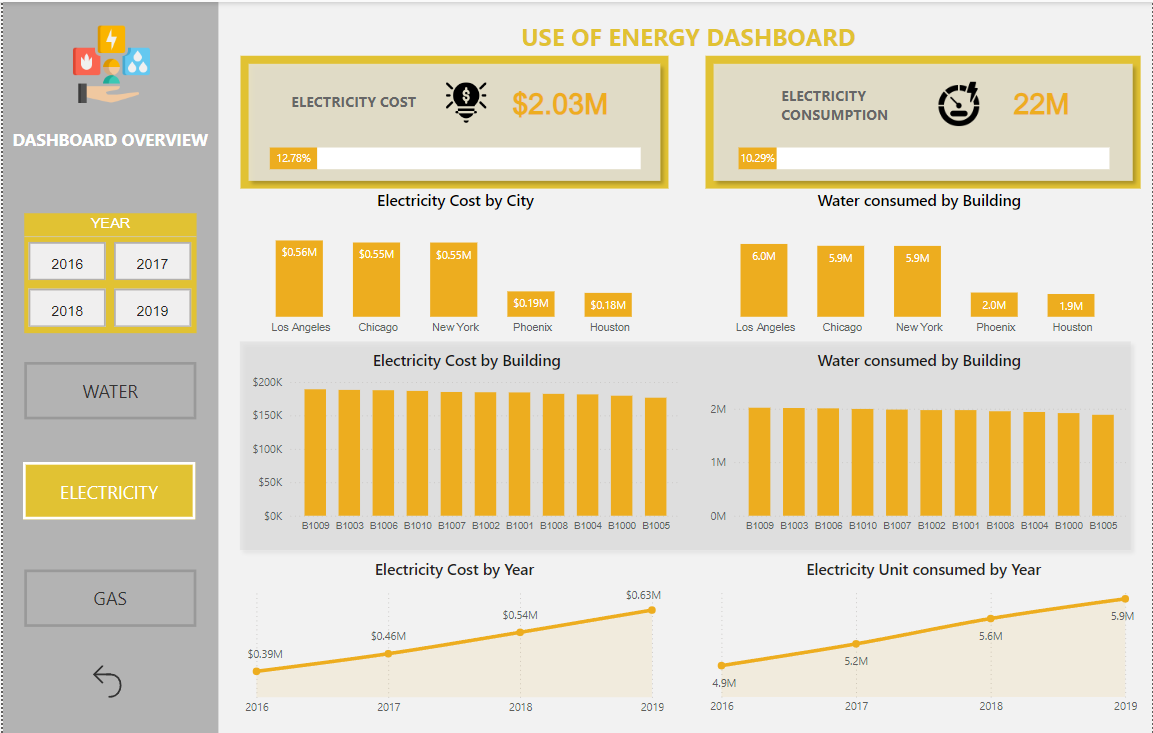

The page's visual inventory and layout, read from the dashboard file:
{"tool":"powerbi","page":{"name":"ELECTRICITY","canvas":[1280,820],"ordinal":2},"visuals":[{"type":"shape","title":"Total Cost","box":[782.9,60.4,484.9,148.3],"z":0},{"type":"shape","title":"Total Cost","box":[265.1,60.4,476.6,148.3],"z":1000},{"type":"shape","box":[254.8,368.9,1010.7,250.6],"z":2000},{"type":"shape","box":[0,0,240.4,820],"z":3000},{"type":"image","box":[66.3,15.7,108.5,108.5],"z":4000},{"type":"areaChart","fields":{"Category":["Energy Consumptions.Year"],"Y":["All Measures.Electricity Cost"]},"box":[265.1,619.5,476.6,184.1],"z":5000},{"type":"areaChart","fields":{"Category":["Energy Consumptions.Year"],"Y":["All Measures.Electricity Unit consumed"]},"box":[782.4,619.5,485.9,183.8],"z":6000},{"type":"columnChart","fields":{"Category":["Energy Consumptions.Building"],"Y":["All Measures.Electricity Cost"]},"box":[272.9,387,487.3,214.4],"z":7000},{"type":"clusteredColumnChart","title":"Water consumed by Building","fields":{"Category":["Energy Consumptions.Building"],"Y":["All Measures.Electricity Unit consumed"]},"box":[782.4,387,476.1,214.4],"z":8000},{"type":"columnChart","fields":{"Category":["Building Master.City"],"Y":["All Measures.Electricity Cost"]},"box":[264.5,208.8,478.9,172],"z":9000},{"type":"clusteredColumnChart","title":"Water consumed by Building","fields":{"Category":["Building Master.City"],"Y":["All Measures.Electricity Unit consumed"]},"box":[782.4,208.8,476.1,172],"z":10000},{"type":"card","fields":{"Values":["All Measures.Electricity Cost"]},"box":[501.2,75.2,239.5,76.6],"z":11000},{"type":"card","fields":{"Values":["All Measures.Electricity Unit consumed"]},"box":[1037.2,75.2,239.5,76.6],"z":12000},{"type":"hundredPercentStackedBarChart","fields":{"Y":["All Measures.Electricity Cost","All Measures.Electricity Cost left"]},"box":[292.4,116.9,423.2,108.6],"z":13000},{"type":"hundredPercentStackedBarChart","fields":{"Y":["All Measures.Electricity Unit consumed","All Measures.Electricity Unit consumed left"]},"box":[814.4,116.9,423.2,108.6],"z":14000},{"type":"textbox","box":[316,94.7,185.2,45.9],"z":15000},{"type":"textbox","box":[861.8,87.7,211.6,57.1],"z":16000},{"type":"textbox","box":[572.4,15.3,451.2,62.7],"z":17000},{"type":"textbox","box":[5.6,135,235.3,69.6],"z":18000},{"type":"image","box":[488.7,84.9,54.3,54.3],"z":19000},{"type":"image","box":[1024.7,80.7,80.7,65.4],"z":20000},{"type":"advancedSlicerVisual","title":"YEAR","fields":{"Values":["Energy Consumptions.Year"]},"box":[23.7,235.3,192.1,133.7],"z":21000},{"type":"actionButton","box":[23.2,401.1,191.8,63.9],"z":22000},{"type":"actionButton","box":[22.8,512,192,64],"z":23000},{"type":"actionButton","box":[23.2,632.7,191.8,63.9],"z":24000},{"type":"actionButton","box":[91.9,732.3,64,48.7],"z":25000}]}

Visuals, with their boxes in screenshot pixels (x1, y1, x2, y2), scaled from the page's 1280x820 canvas onto the 1153x733 screenshot:
"Total Cost" shape: crop(705, 54, 1142, 187)
"Total Cost" shape: crop(239, 54, 668, 187)
shape: crop(230, 330, 1140, 554)
shape: crop(0, 0, 217, 732)
image: crop(60, 14, 157, 111)
areaChart - Energy Consumptions.Year x All Measures.Electricity Cost: crop(239, 554, 668, 718)
areaChart - Energy Consumptions.Year x All Measures.Electricity Unit consumed: crop(705, 554, 1142, 718)
columnChart - Energy Consumptions.Building x All Measures.Electricity Cost: crop(246, 346, 685, 538)
"Water consumed by Building" clusteredColumnChart: crop(705, 346, 1134, 538)
columnChart - Building Master.City x All Measures.Electricity Cost: crop(238, 187, 670, 340)
"Water consumed by Building" clusteredColumnChart: crop(705, 187, 1134, 340)
card - All Measures.Electricity Cost: crop(451, 67, 667, 136)
card - All Measures.Electricity Unit consumed: crop(934, 67, 1150, 136)
hundredPercentStackedBarChart - All Measures.Electricity Cost x All Measures.Electricity Cost left: crop(263, 104, 645, 202)
hundredPercentStackedBarChart - All Measures.Electricity Unit consumed x All Measures.Electricity Unit consumed left: crop(734, 104, 1115, 202)
textbox: crop(285, 85, 451, 126)
textbox: crop(776, 78, 967, 129)
textbox: crop(516, 14, 922, 70)
textbox: crop(5, 121, 217, 183)
image: crop(440, 76, 489, 124)
image: crop(923, 72, 996, 131)
"YEAR" advancedSlicerVisual: crop(21, 210, 194, 330)
actionButton: crop(21, 359, 194, 416)
actionButton: crop(21, 458, 193, 515)
actionButton: crop(21, 566, 194, 623)
actionButton: crop(83, 655, 140, 698)
